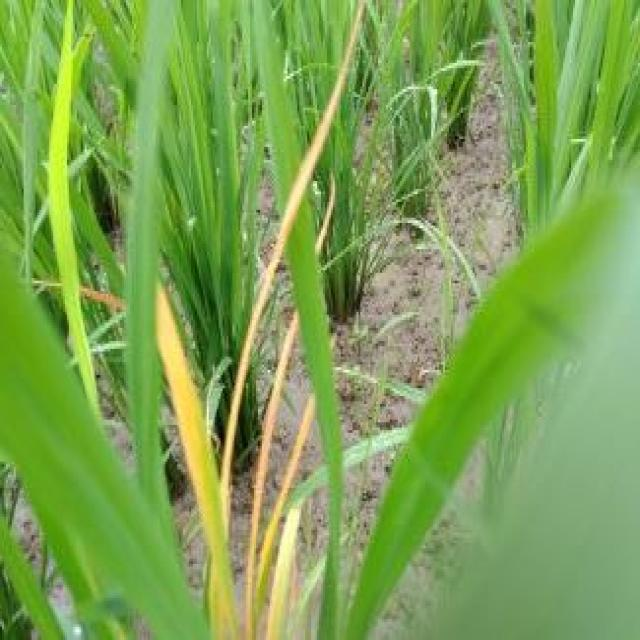Tungro: (155, 262, 329, 640)
